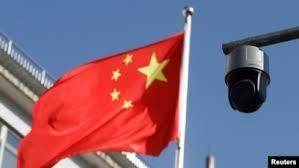maru: (220, 46, 261, 114)
